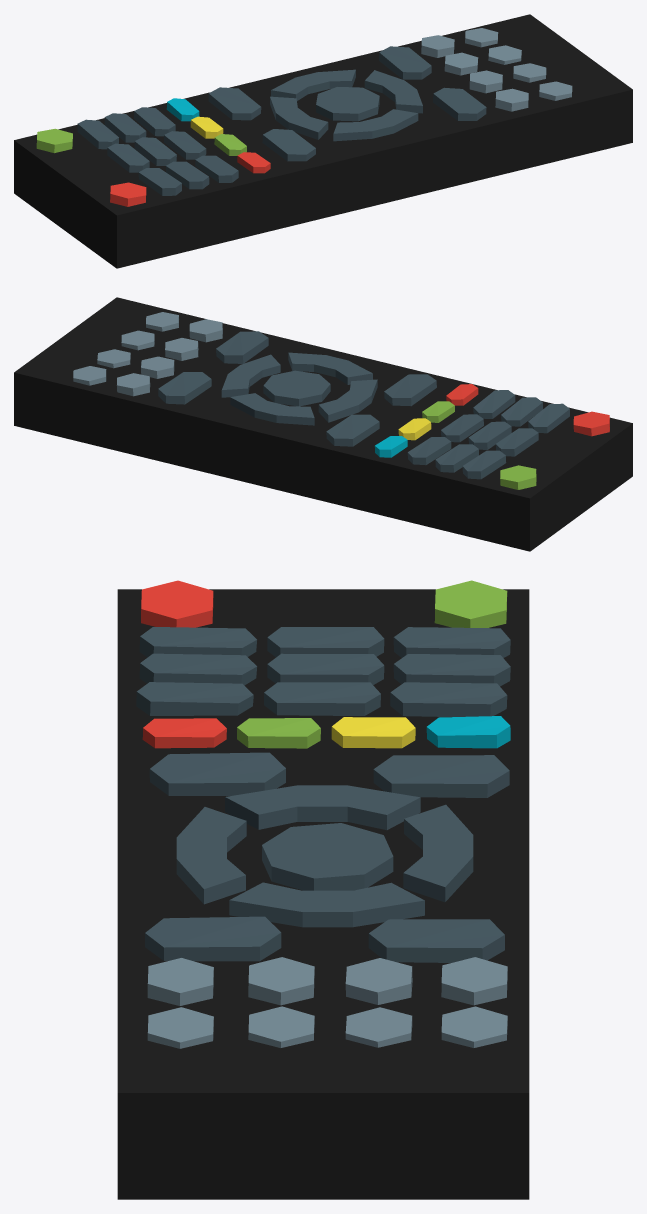
The picture shows the model from 3 angles, top to bottom: view 1: azimuth 30°, elevation 25°; view 2: azimuth 150°, elevation 25°; view 3: azimuth 270°, elevation 25°; orthographic projection. The views are drawn at different scales.
Parts seen in each view (by area): view 1: mesh_1999592679, group_990673373, group_155187883, group_1981639585, group_456129434, group_128561982, mesh_451507154, mesh_1956385773, mesh_82755036, mesh_594652875, mesh_1368909834, mesh_2045069191 (+13 smaller); view 2: mesh_1999592679, group_990673373, group_155187883, group_1981639585, group_456129434, group_128561982, mesh_1956385773, mesh_451507154, mesh_82755036, mesh_594652875, mesh_1368909834, mesh_2045069191 (+13 smaller); view 3: mesh_1999592679, group_990673373, group_1981639585, group_155187883, group_456129434, group_128561982, mesh_82755036, mesh_594652875, mesh_1368909834, mesh_2045069191, mesh_451507154, mesh_1956385773 (+13 smaller).
Boxes of the visible parts, left/top/right/bottom form: mesh_1999592679: left=14, top=14, right=632, bottom=268; group_990673373: left=379, top=46, right=486, bottom=120; group_155187883: left=77, top=119, right=181, bottom=195; group_1981639585: left=104, top=113, right=209, bottom=189; group_456129434: left=465, top=28, right=572, bottom=100; group_128561982: left=316, top=87, right=379, bottom=121; mesh_451507154: left=333, top=109, right=418, bottom=141; mesh_1956385773: left=271, top=69, right=355, bottom=100; mesh_82755036: left=270, top=96, right=328, bottom=139; mesh_594652875: left=364, top=70, right=422, bottom=113; mesh_1368909834: left=208, top=87, right=261, bottom=120; mesh_2045069191: left=262, top=129, right=315, bottom=161; mesh_1999592679: left=14, top=297, right=632, bottom=551; group_990673373: left=158, top=331, right=268, bottom=404; group_155187883: left=462, top=403, right=569, bottom=479; group_1981639585: left=435, top=397, right=542, bottom=472; group_456129434: left=73, top=312, right=178, bottom=385; group_128561982: left=263, top=370, right=330, bottom=406; mesh_1956385773: left=230, top=393, right=314, bottom=425; mesh_451507154: left=288, top=352, right=372, bottom=384; mesh_82755036: left=318, top=379, right=377, bottom=422; mesh_594652875: left=221, top=354, right=280, bottom=397; mesh_1368909834: left=326, top=414, right=379, bottom=446; mesh_2045069191: left=384, top=374, right=436, bottom=406; mesh_1999592679: left=117, top=589, right=529, bottom=1199; group_990673373: left=145, top=916, right=504, bottom=962; group_1981639585: left=139, top=653, right=510, bottom=686; group_155187883: left=139, top=627, right=510, bottom=657; group_456129434: left=147, top=1006, right=507, bottom=1048; group_128561982: left=262, top=823, right=393, bottom=890; mesh_82755036: left=225, top=785, right=420, bottom=830; mesh_594652875: left=229, top=882, right=424, bottom=927; mesh_1368909834: left=373, top=755, right=509, bottom=797; mesh_2045069191: left=149, top=752, right=285, bottom=795; mesh_451507154: left=176, top=807, right=246, bottom=904; mesh_1956385773: left=403, top=804, right=473, bottom=902.
Bounding box in the file's own units: 142 × 16.29 × 49.
